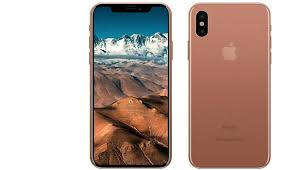iphone: (188, 1, 274, 170)
iphone8: (87, 1, 173, 170)
